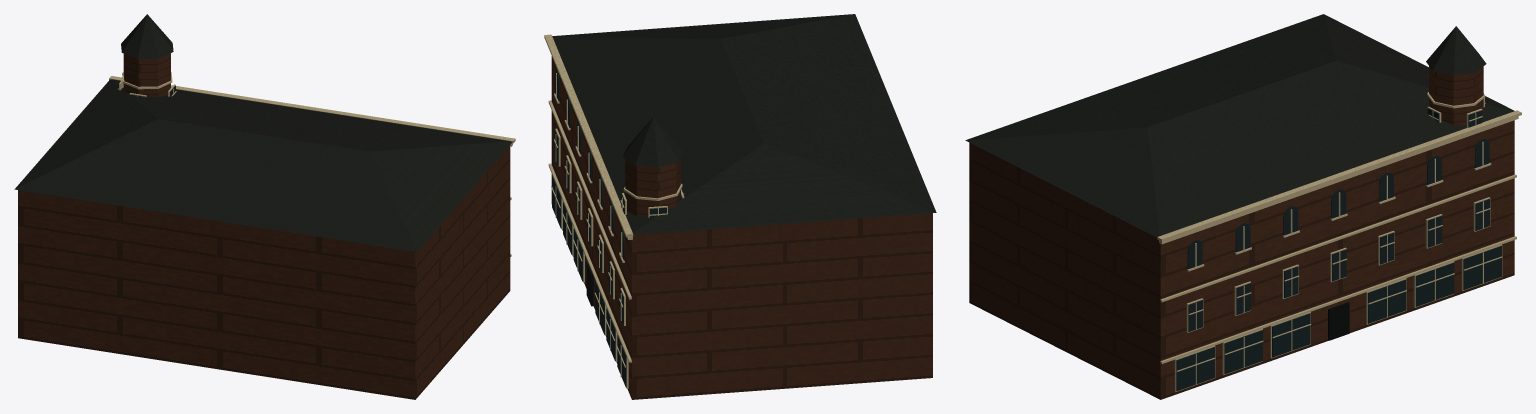
3 renders of one model, left to right at view 1: azimuth 30°, elevation 25°; view 2: azimuth 150°, elevation 25°; view 3: azimuth 270°, elevation 25°, orthographic. The views are drawn at different scales.
Parts seen in each view (by area): view 1: nieuwsblad-slagveld-0, nieuwsblad-slagveld-3, nieuwsblad-slagveld-1; view 2: nieuwsblad-slagveld-3, nieuwsblad-slagveld-0, nieuwsblad-slagveld-1, nieuwsblad-slagveld-2; view 3: nieuwsblad-slagveld-0, nieuwsblad-slagveld-3, nieuwsblad-slagveld-2, nieuwsblad-slagveld-1, nieuwsblad-slagveld-4.
Boxes of the visible parts, left/top/right/bottom form: nieuwsblad-slagveld-0: left=18, top=53, right=510, bottom=399; nieuwsblad-slagveld-3: left=14, top=14, right=512, bottom=251; nieuwsblad-slagveld-1: left=109, top=72, right=515, bottom=256; nieuwsblad-slagveld-3: left=552, top=14, right=936, bottom=234; nieuwsblad-slagveld-0: left=551, top=56, right=932, bottom=399; nieuwsblad-slagveld-1: left=544, top=34, right=684, bottom=388; nieuwsblad-slagveld-2: left=552, top=70, right=684, bottom=387; nieuwsblad-slagveld-0: left=969, top=66, right=1514, bottom=399; nieuwsblad-slagveld-3: left=965, top=14, right=1514, bottom=237; nieuwsblad-slagveld-2: left=1176, top=108, right=1501, bottom=391; nieuwsblad-slagveld-1: left=1157, top=92, right=1521, bottom=391; nieuwsblad-slagveld-4: left=1328, top=302, right=1349, bottom=340.
Size of the model in its own units: 44.87 by 23.4 by 46.58.
Materials: 5 (5 with a texture image).
